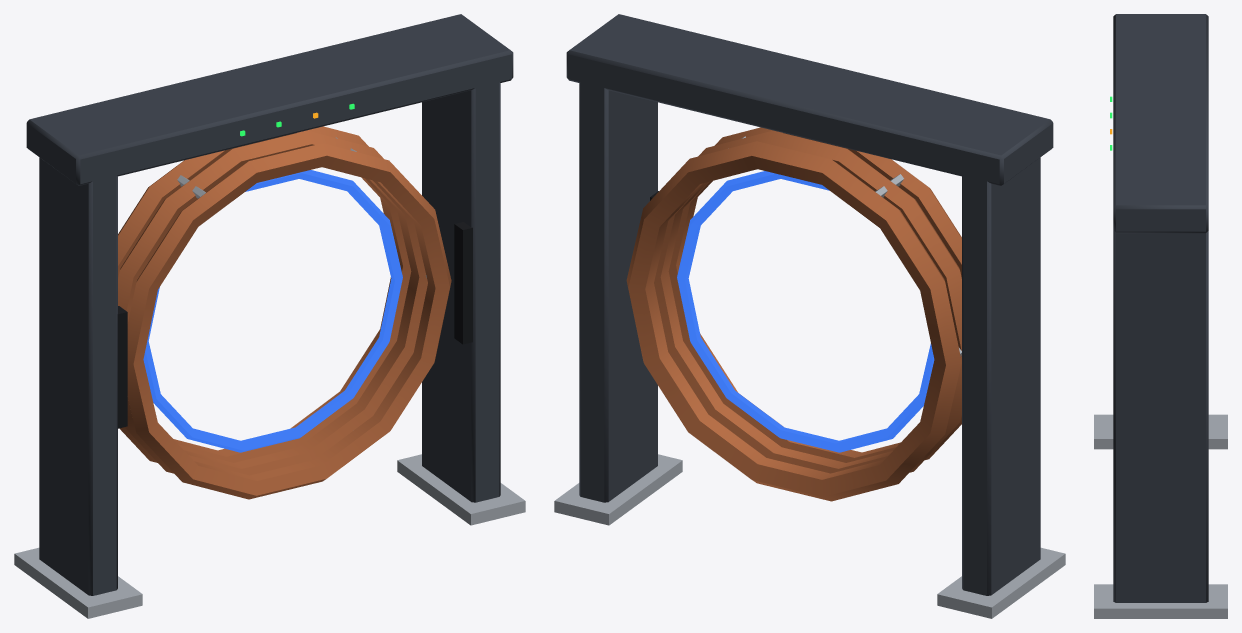
The model's file is coil_coil_gantry.glb.
3 views of the same model, side by side, from view 1: azimuth 30°, elevation 25°; view 2: azimuth 150°, elevation 25°; view 3: azimuth 270°, elevation 25° (orthographic). The views are drawn at different scales.
Visible parts, largest first — view 1: coil_coil_gantry; view 2: coil_coil_gantry; view 3: coil_coil_gantry.
Part boxes in pixels (bbox=[...]): coil_coil_gantry: bbox=[14, 14, 525, 618]; coil_coil_gantry: bbox=[554, 14, 1065, 618]; coil_coil_gantry: bbox=[1094, 14, 1227, 618].
Bounding box in the file's own units: 2.4 × 2.38 × 0.7.
